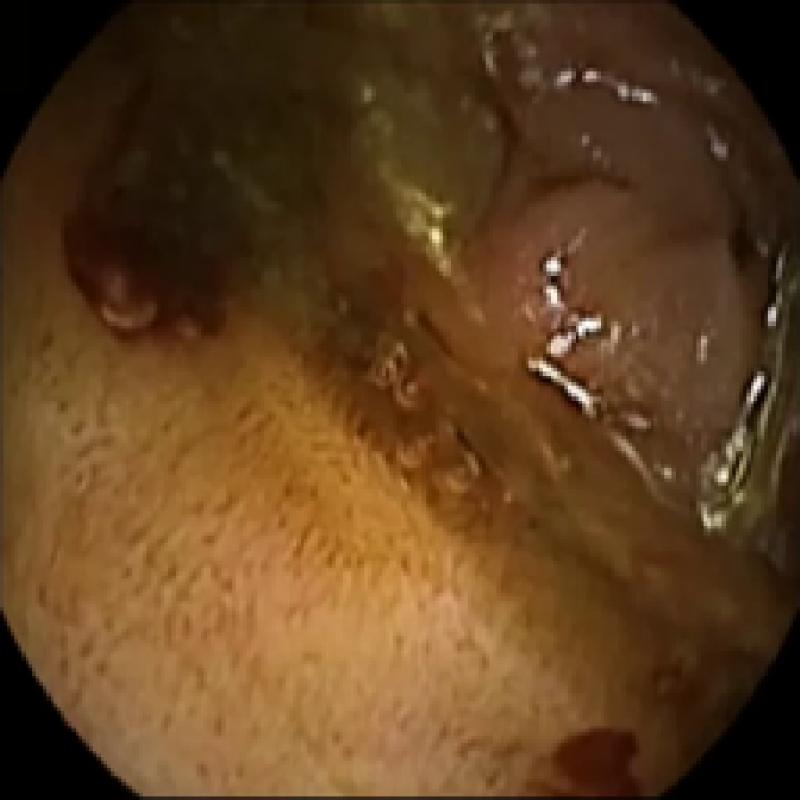bleeding: (64, 86, 243, 332), (536, 726, 643, 800)
